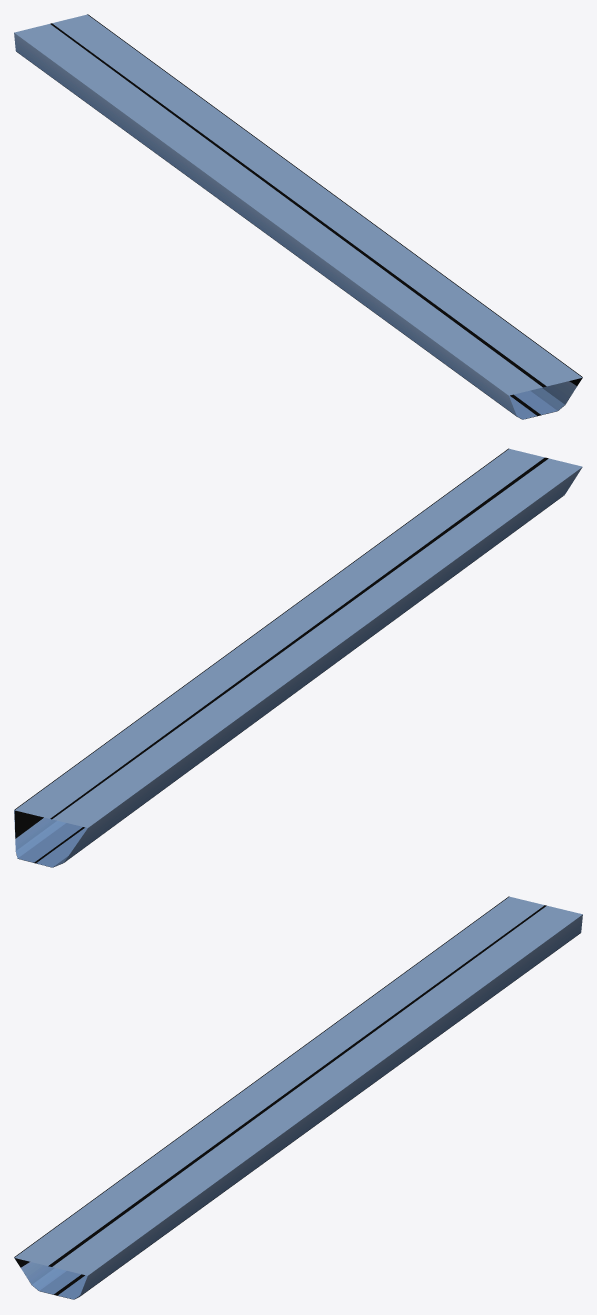
The model's file is sci-fi-platform-stairs-support.glb.
3 views of the same model, one above another, from view 1: azimuth 30°, elevation 25°; view 2: azimuth 150°, elevation 25°; view 3: azimuth 330°, elevation 25° (orthographic).
Parts seen in each view (by area): view 1: SciFi_PlatformStairs_Support; view 2: SciFi_PlatformStairs_Support; view 3: SciFi_PlatformStairs_Support.
Boxes of the visible parts, left/top/right/bottom form: SciFi_PlatformStairs_Support: left=14, top=14, right=582, bottom=419; SciFi_PlatformStairs_Support: left=14, top=448, right=582, bottom=867; SciFi_PlatformStairs_Support: left=14, top=896, right=582, bottom=1299.
Bounding box in the file's own units: 0.8455 × 0.3947 × 9.98.
Materials: 3 (2 with a texture image).
